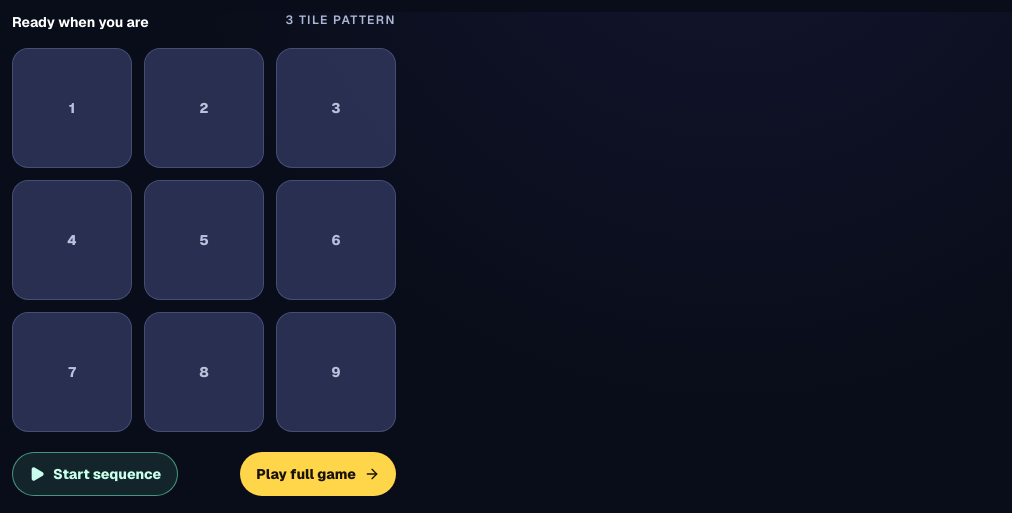
Test case: SequenceGameDemo › starts after clicking the action and enables the full board after the pattern
Click the button "Start sequence" at (95, 474), box [12,452,178,496]
Wait 1560 ms
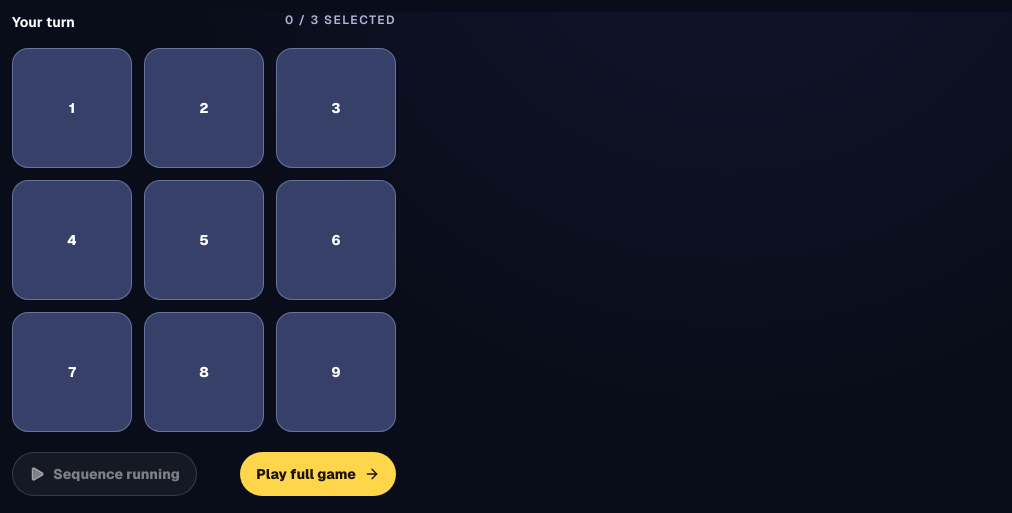
Expected: the button "Sequence running" is disabled, [12,452,197,496]
